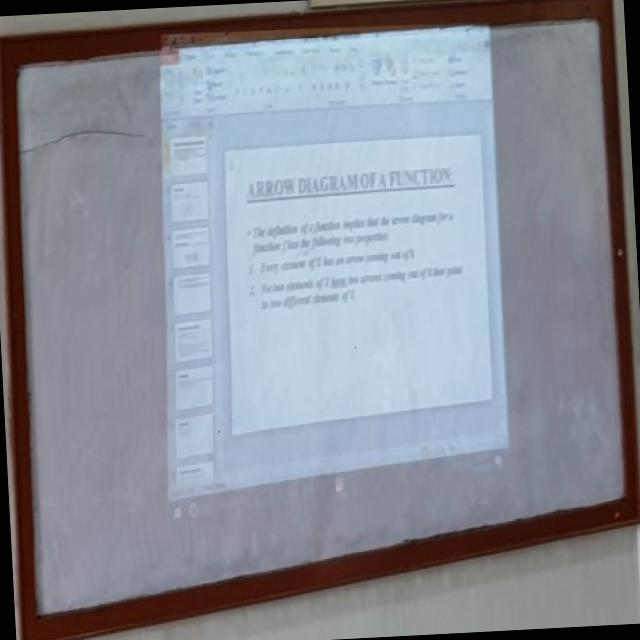Slide: (160, 14, 512, 539)
White-board: (10, 5, 635, 631)
